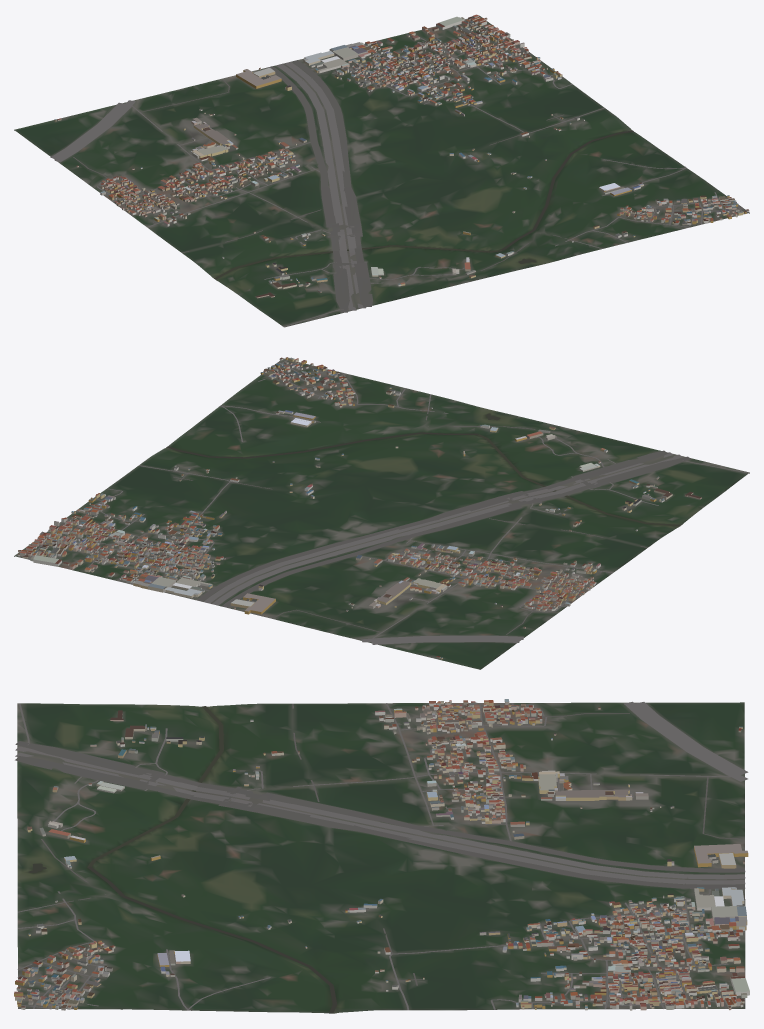
The picture shows the model from 3 angles, top to bottom: view 1: azimuth 30°, elevation 25°; view 2: azimuth 150°, elevation 25°; view 3: azimuth 270°, elevation 25°; orthographic projection. The views are drawn at different scales.
Visible parts, largest first — view 1: ground, buildings, roads, water; view 2: ground, buildings, roads, water; view 3: ground, buildings, roads, water.
Boxes of the visible parts, box(x1,y1,x2,y2) form: ground: box(14, 15, 749, 327); buildings: box(54, 14, 749, 298); roads: box(50, 19, 744, 326); water: box(214, 130, 633, 279); ground: box(14, 358, 749, 669); buildings: box(17, 357, 701, 659); roads: box(28, 359, 748, 644); water: box(166, 413, 680, 526); ground: box(17, 702, 745, 1013); buildings: box(14, 699, 749, 1010); roads: box(15, 701, 748, 1010); water: box(28, 706, 337, 1013).
Size of the model in its own units: 1410 by 23.36 by 1418.
